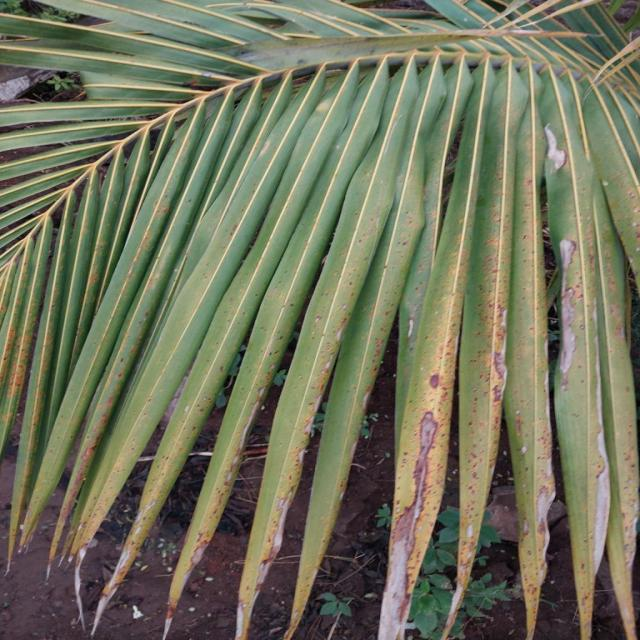gray leaf spot: (368, 122, 634, 640)
